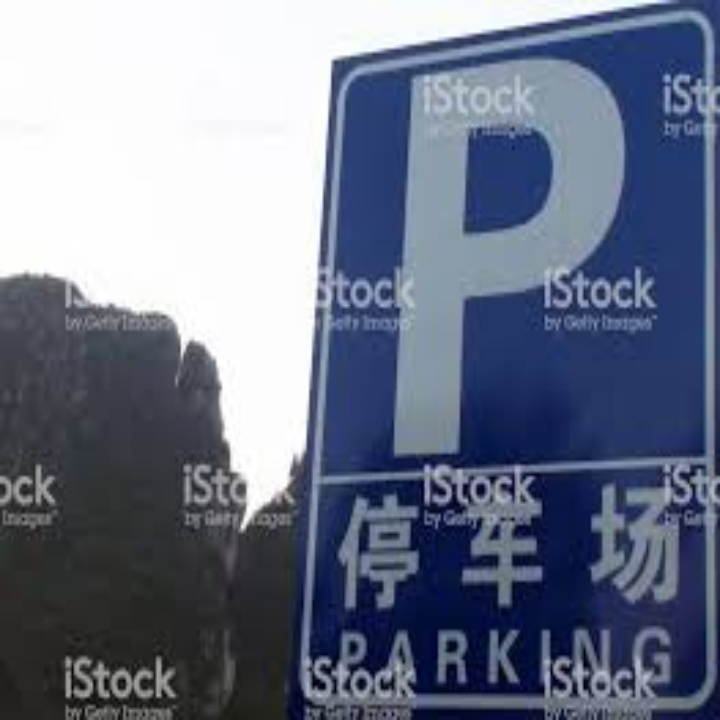parking: (385, 53, 630, 461)
